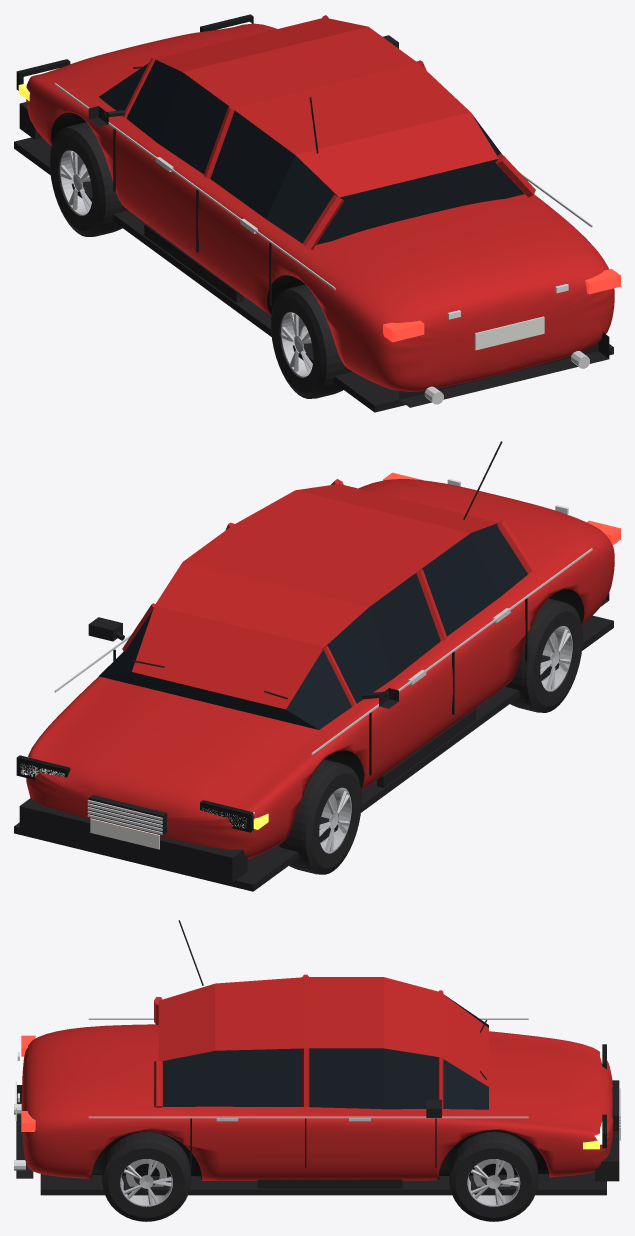
File: sedan.glb
3 renders of one model, top to bottom at view 1: azimuth 30°, elevation 25°; view 2: azimuth 150°, elevation 25°; view 3: azimuth 270°, elevation 25°, orthographic. The views are drawn at different scales.
Parts seen in each view (by area): view 1: body, wheel_rl, wheel_fl; view 2: body, wheel_fl, wheel_rl; view 3: body, wheel_fr, wheel_rr.
Part boxes in pixels (<box>): body: <box>14,14,620,412</box>; wheel_rl: <box>271,284,351,398</box>; wheel_fl: <box>49,122,128,236</box>; body: <box>14,441,620,891</box>; wheel_fl: <box>279,759,361,874</box>; wheel_rl: <box>505,598,582,712</box>; body: <box>14,920,620,1195</box>; wheel_fr: <box>449,1131,538,1221</box>; wheel_rr: <box>102,1131,191,1221</box>.
Size of the model in its own units: 2.26 by 1.98 by 5.04.
